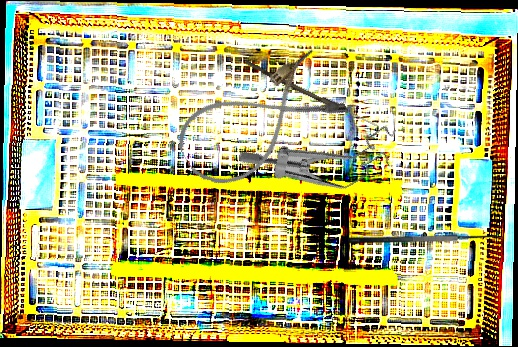Cannula: (167, 45, 352, 199)
Spatula Surgical: (348, 224, 500, 244)
Speculum: (236, 79, 411, 230)
Surgical Spoon: (243, 60, 380, 129)
